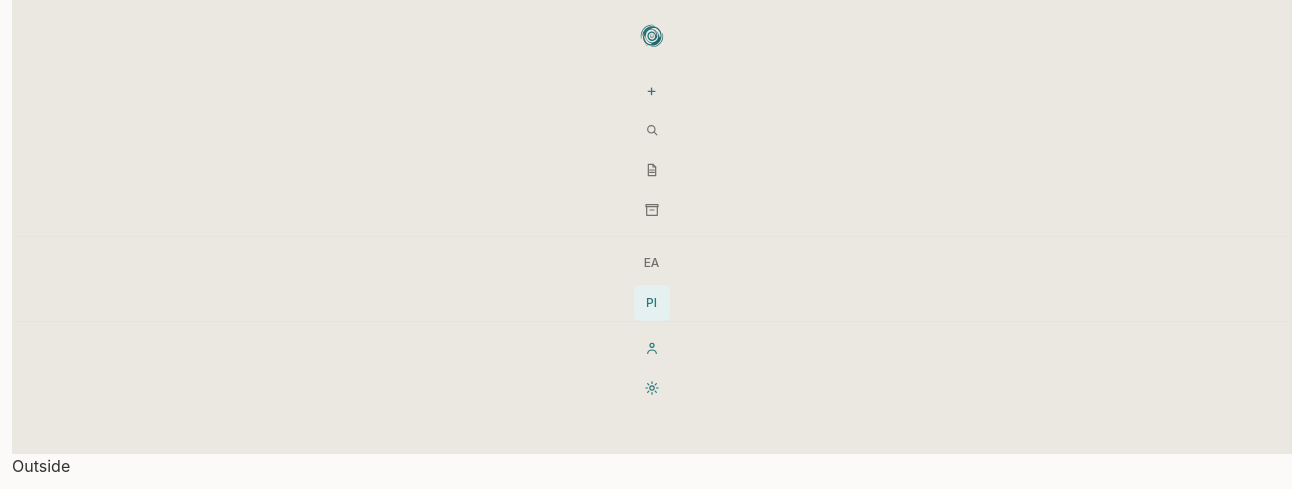
Test: Library Rail › lists active pinned originals in pin order and selects them directly
This screenshot has width=1292, height=489.
Click the button "EA" at x=652, y=263, box [634,245,670,281]
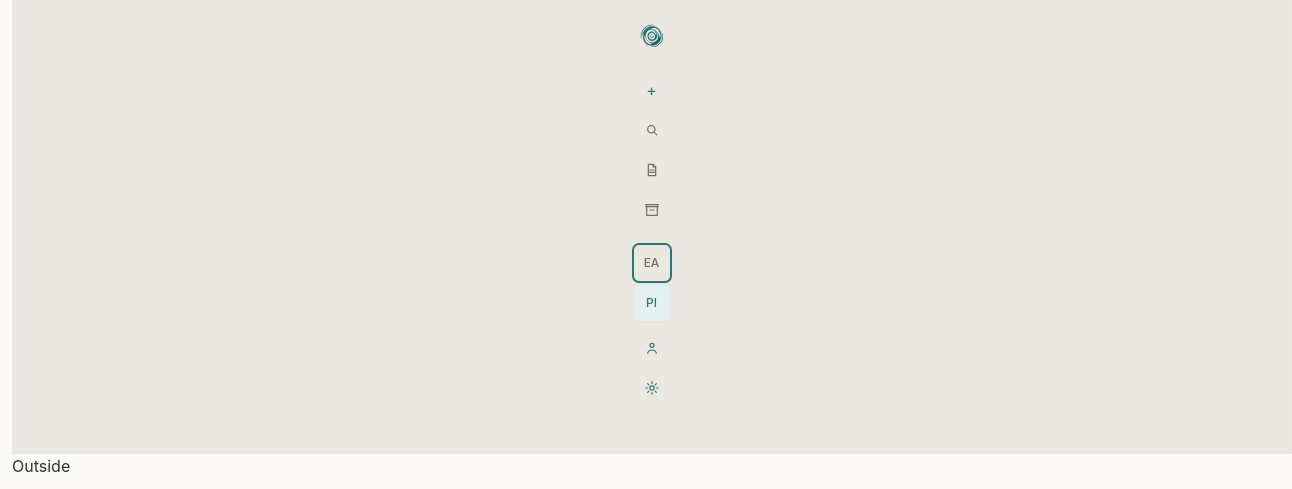
Click the button named "Articles" at x=652, y=170, box [634,152,670,188]
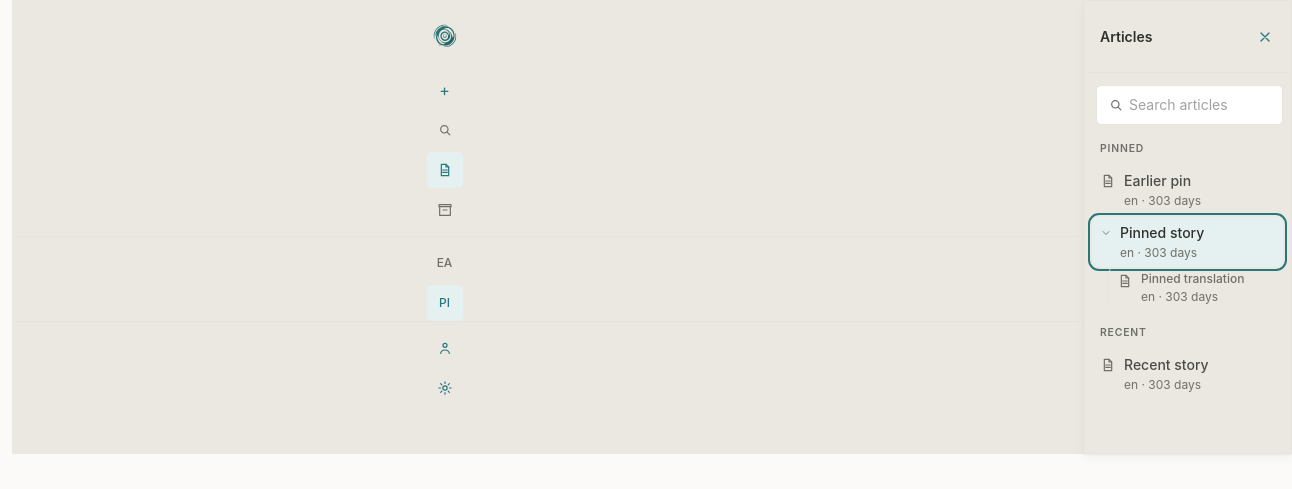
Click the button "EA" at x=444, y=263, box [426,245,462,281]
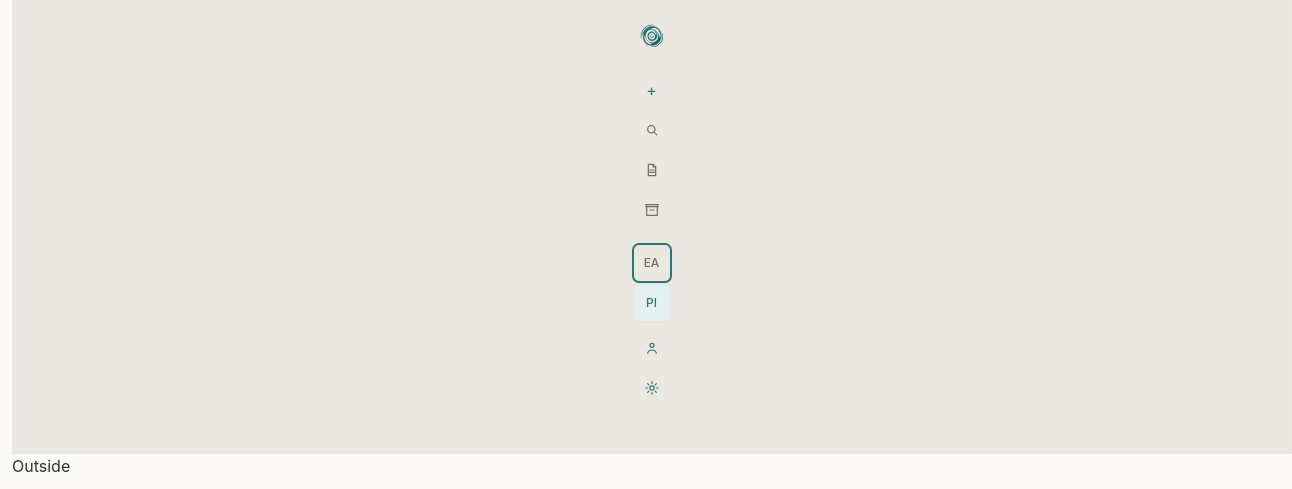
Check: the navigation bar is gone
